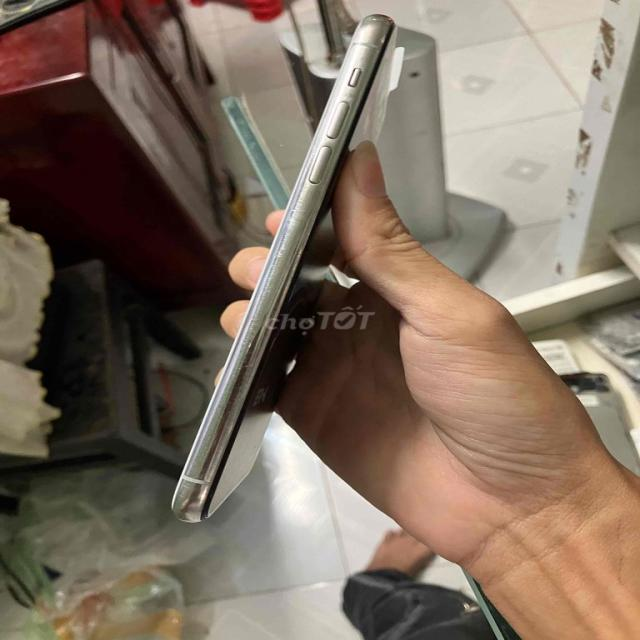gen_11: (170, 11, 436, 525)
scratch: (225, 188, 317, 362), (179, 409, 228, 496)
